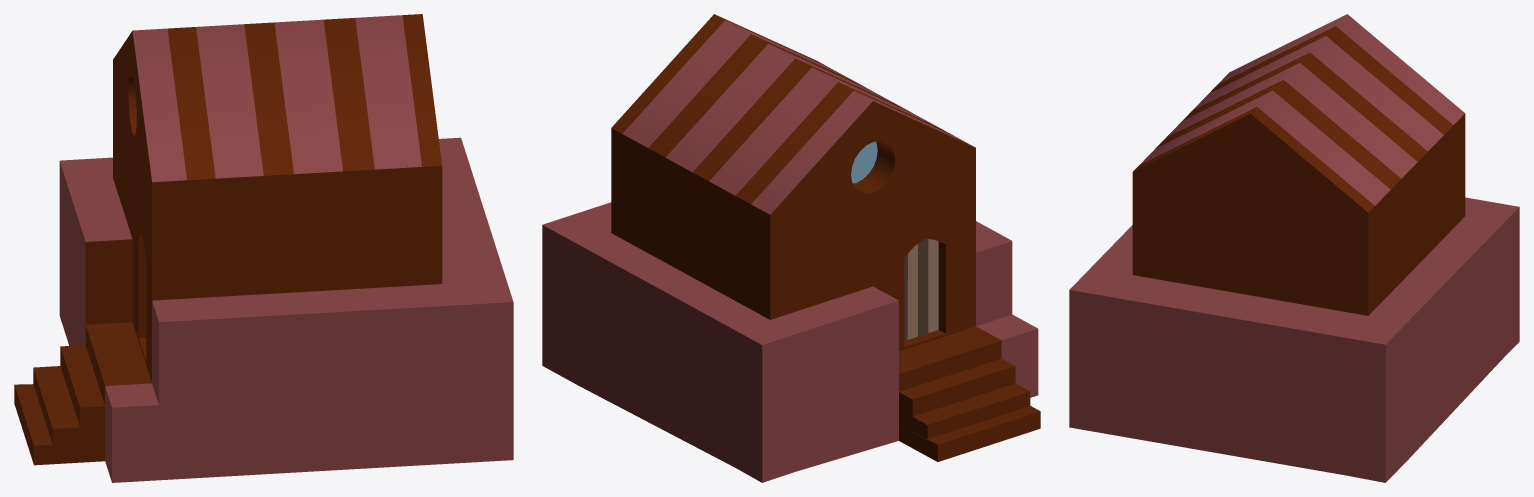
Rendered from FieldHouse.fbx.
3 renders of one model, left to right at view 1: azimuth 30°, elevation 25°; view 2: azimuth 150°, elevation 25°; view 3: azimuth 270°, elevation 25°, orthographic. The views are drawn at different scales.
Visible parts, largest first — view 1: Maison2; view 2: Maison2; view 3: Maison2.
Part boxes in pixels (x1=…): Maison2: x1=14, y1=14, x2=513, y2=482; Maison2: x1=542, y1=14, x2=1040, y2=482; Maison2: x1=1069, y1=14, x2=1519, y2=482.
Bounding box in the file's own units: 79.84 × 56.76 × 72.34.
